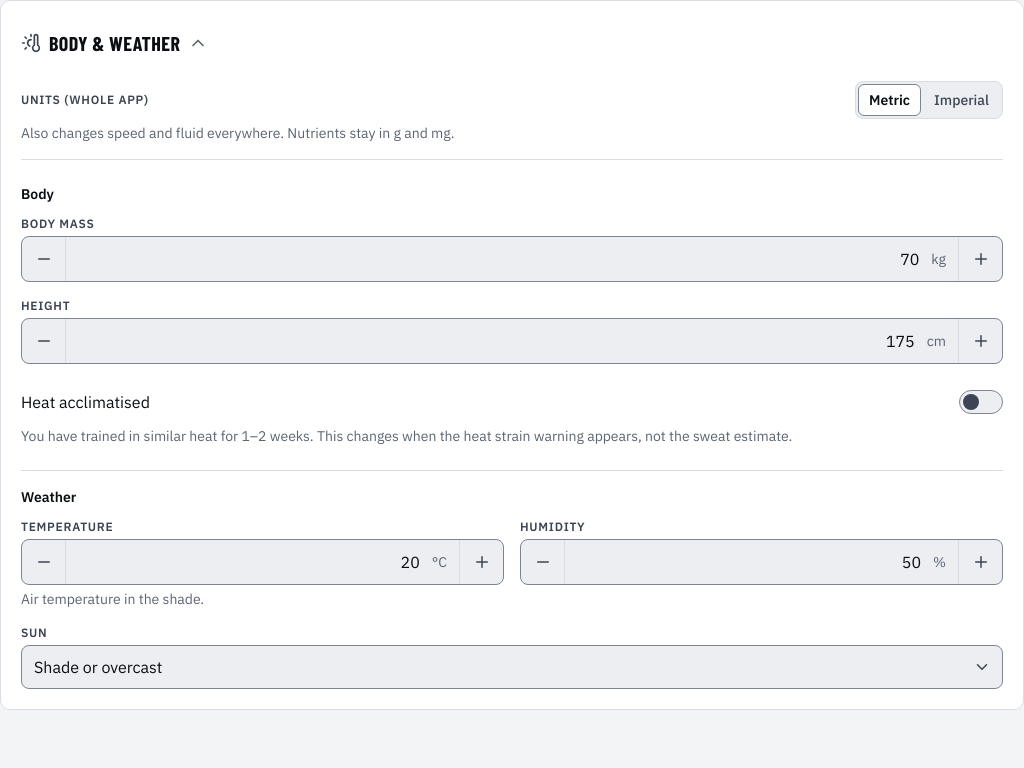
it: BodyWeatherSection: body › sets the height in cm, clamped to the input limits
This screenshot has width=1024, height=768.
Replace the text in the number field labelled "Height" with "182" at point(496, 341), box [66, 319, 927, 363]
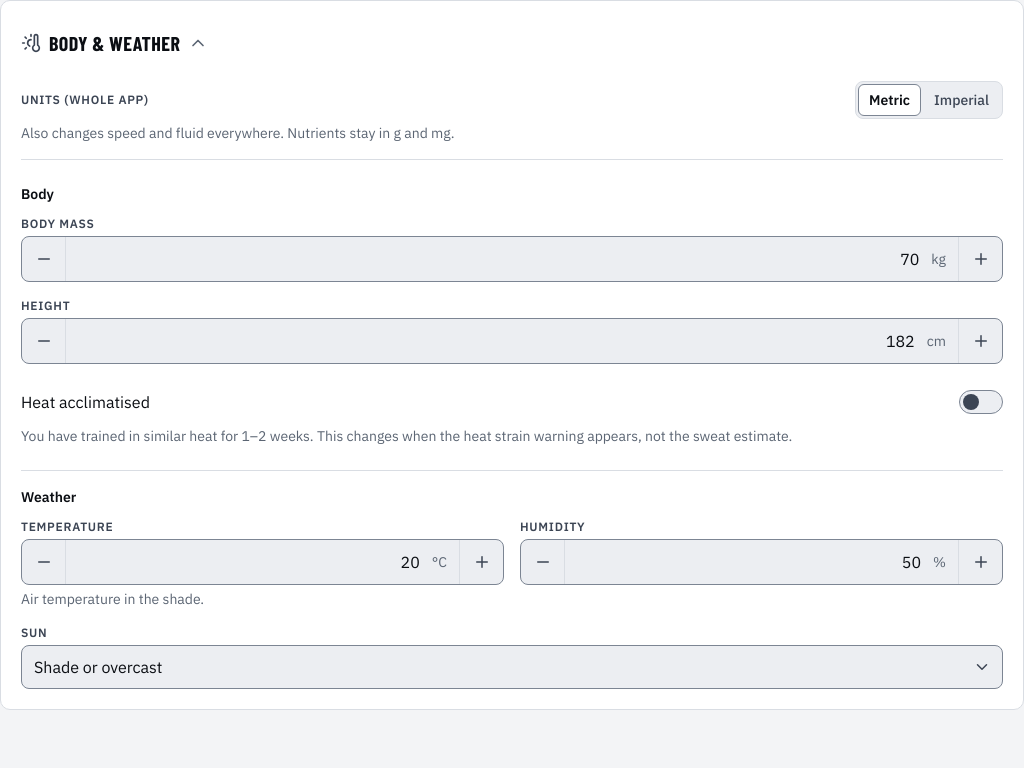
Replace the text in the number field labelled "Height" with "300" at point(496, 341), box [66, 319, 927, 363]
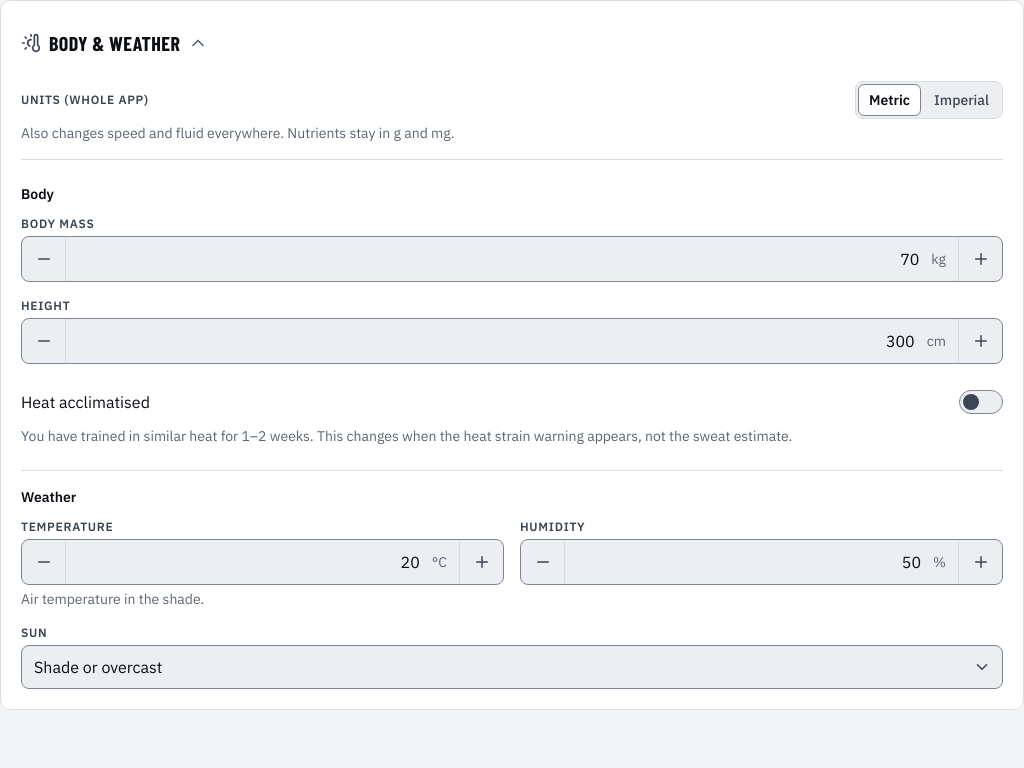
Leave the number field labelled "Height", box [66, 319, 927, 363]
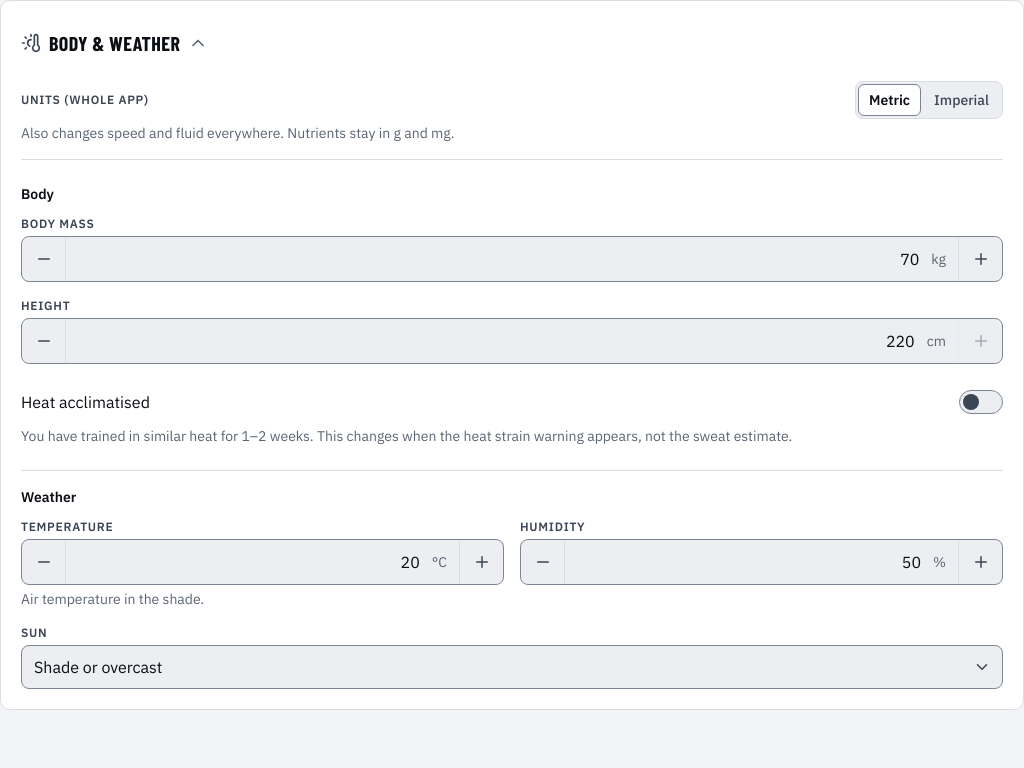
Result: the number field labelled "Height" holds "220" at [66, 319, 927, 363]
